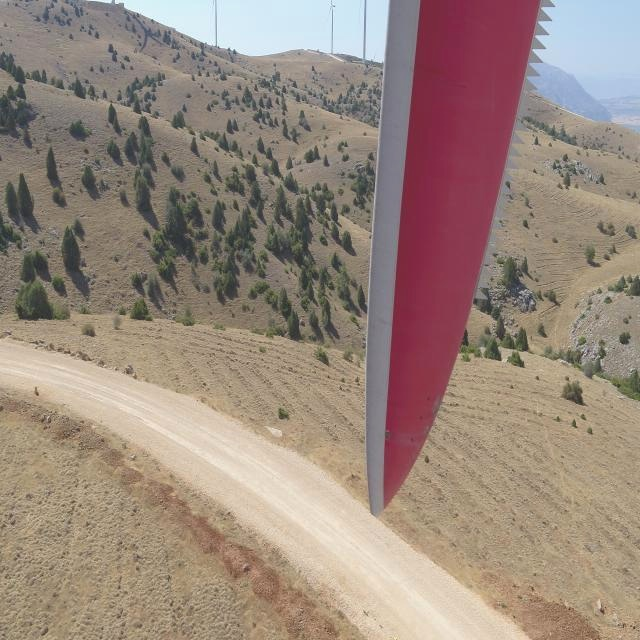Coating_defects: (384, 427, 394, 443)
EROSION: (422, 395, 443, 437)
